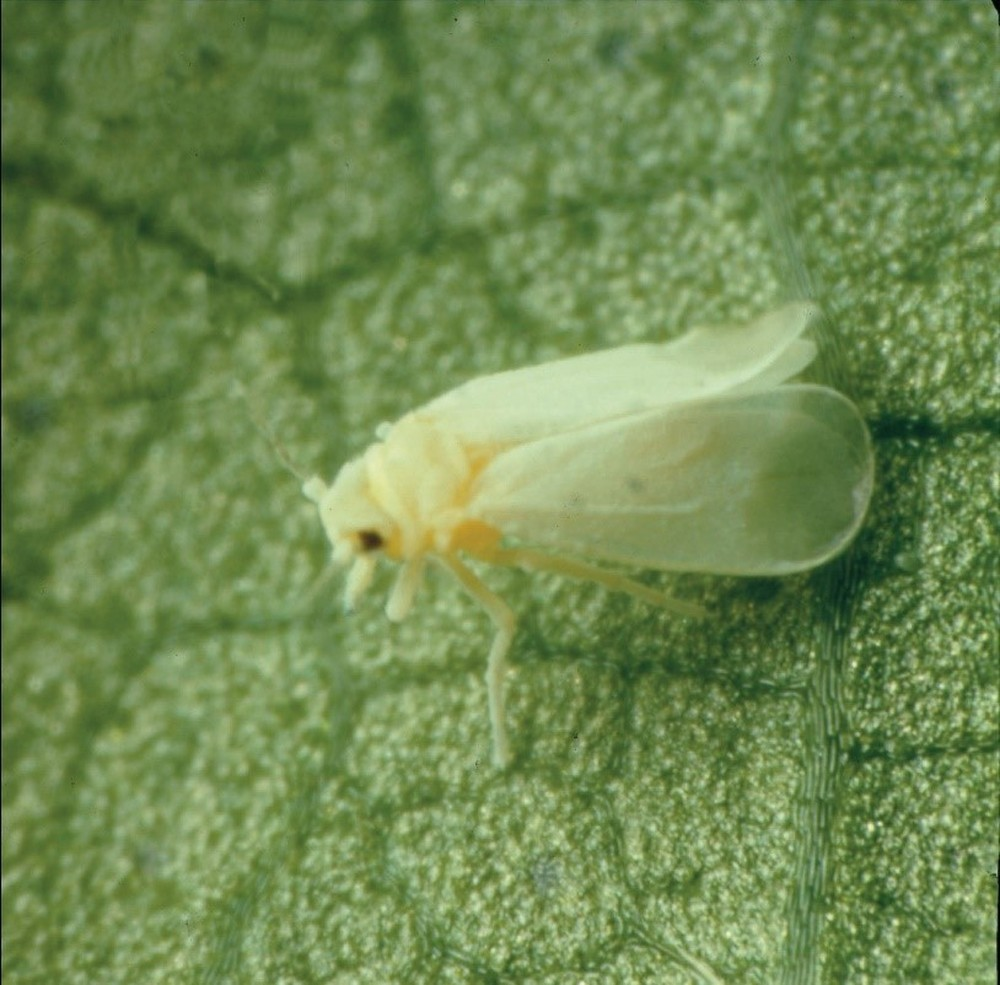Mosca Blanca: (193, 275, 890, 776)
